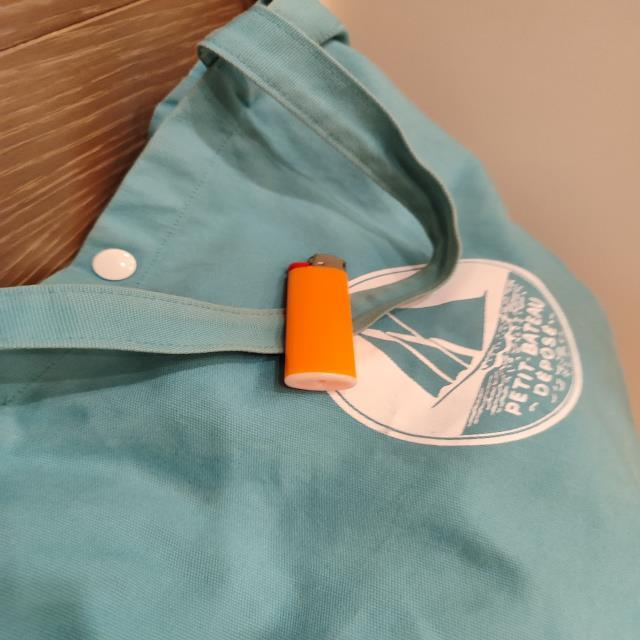lighter: (284, 254, 356, 391)
